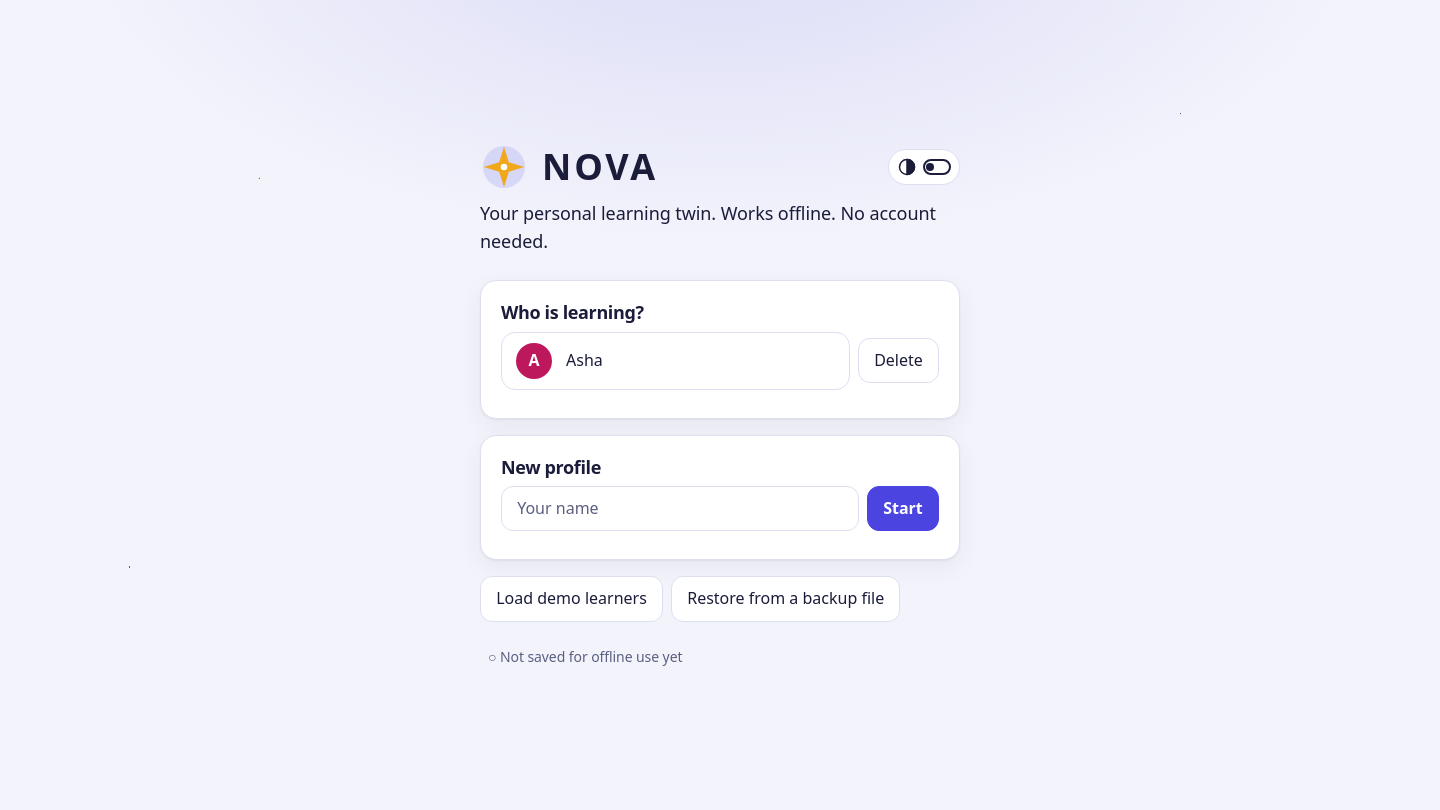
it: Home: two parts › keeps the plan on the left and puts what NOVA learned plus the next step on the right
The image size is (1440, 810).
Click the button "A Asha": (534, 361) x1=501 y1=332 x2=850 y2=390
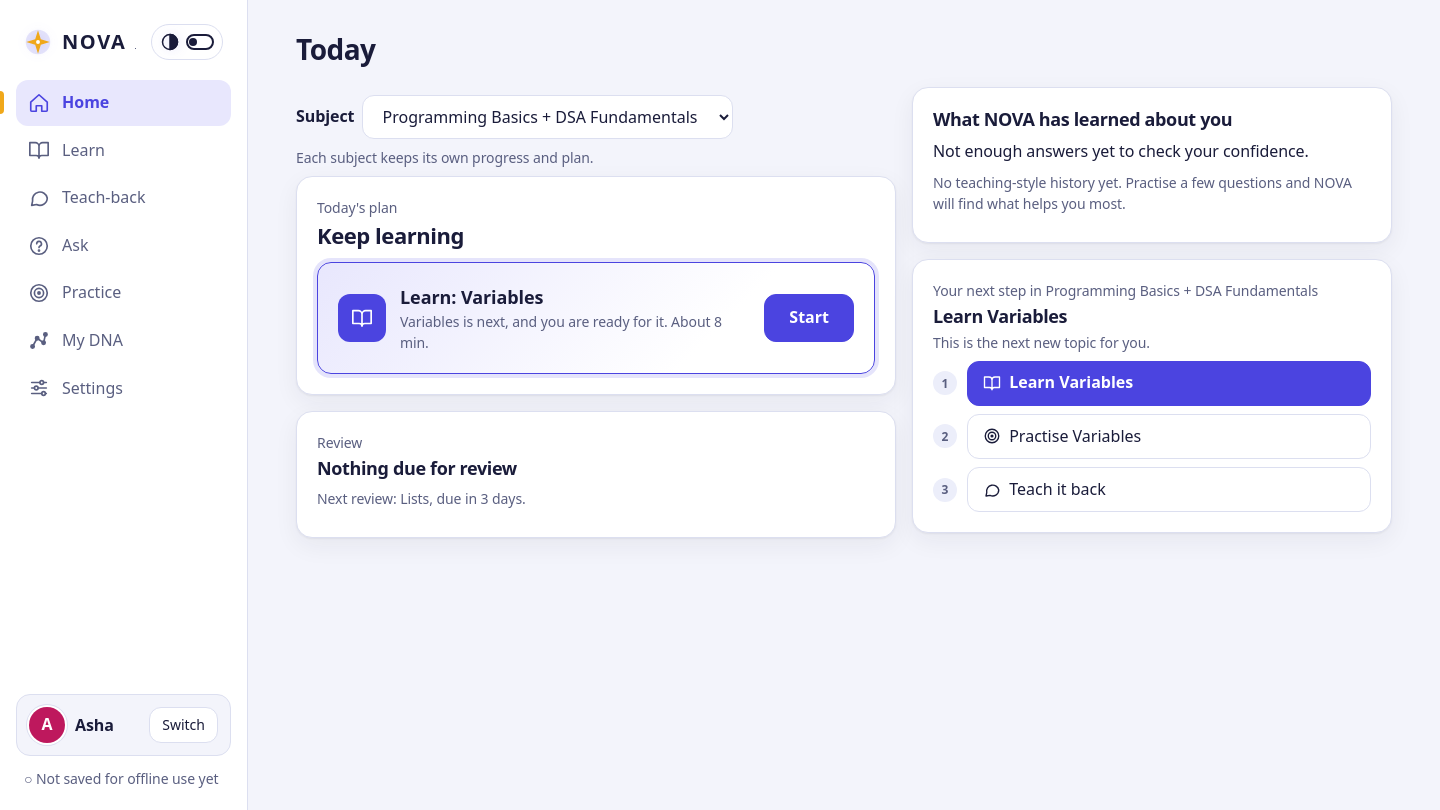
expect the heading "Nothing due for review" is shown: met, box x1=317 y1=456 x2=517 y2=480
expect the element named "About you and your next step" shows "What NOVA has learned about you": met, box x1=933 y1=107 x2=1232 y2=131
expect the element named "About you and your next step" shows "Your next step in": met, box x1=933 y1=281 x2=1046 y2=300
